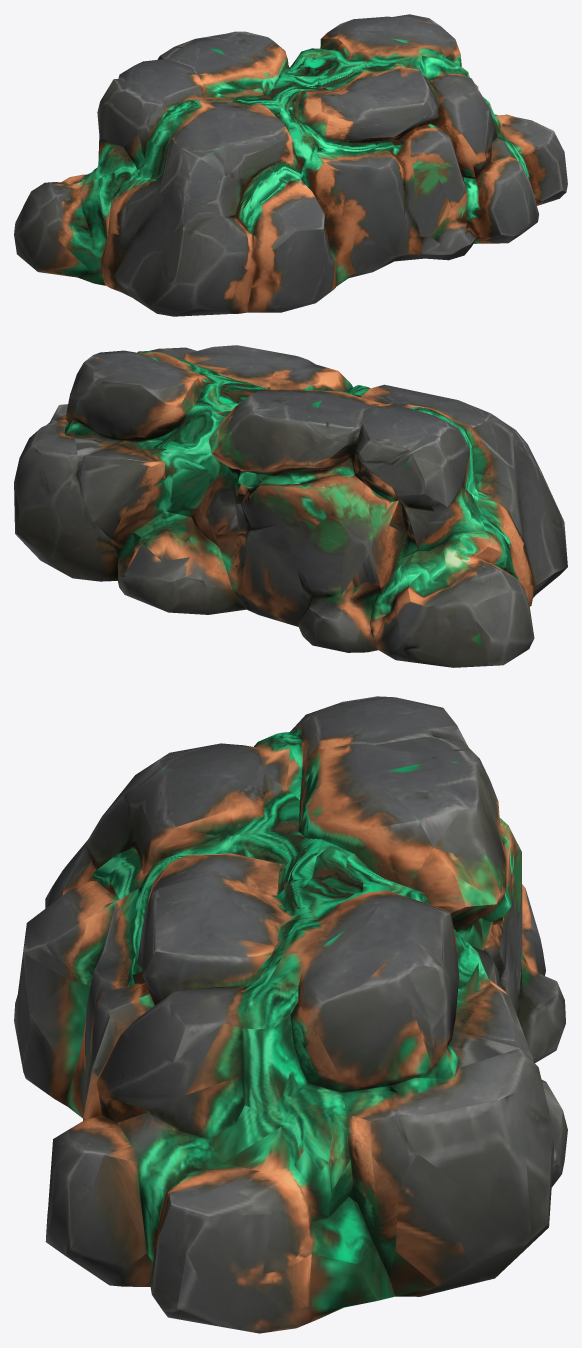
The picture shows the model from 3 angles, top to bottom: view 1: azimuth 30°, elevation 25°; view 2: azimuth 150°, elevation 25°; view 3: azimuth 270°, elevation 25°; orthographic projection. The views are drawn at different scales.
Visible parts, largest first — view 1: copper_vein; view 2: copper_vein; view 3: copper_vein.
Boxes of the visible parts, x1,y1,x2,y2 form: copper_vein: (14,14,567,316); copper_vein: (14,345,567,667); copper_vein: (14,696,567,1333).
Bounding box in the file's own units: 1.9 × 0.669 × 1.06.
Materials: 1 (1 with a texture image).
